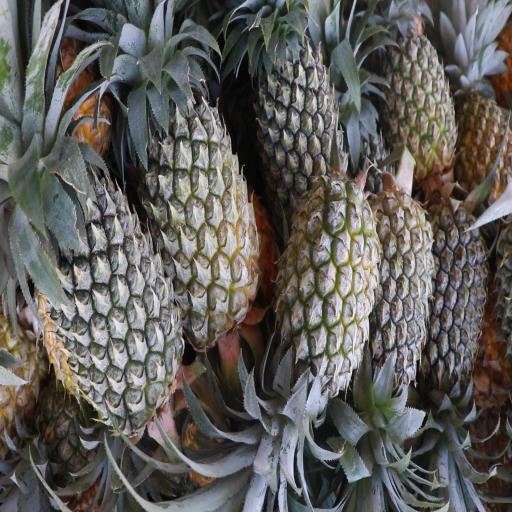------------------------------: (141, 82, 255, 321), (284, 177, 376, 384), (381, 18, 456, 179), (453, 56, 512, 206)
